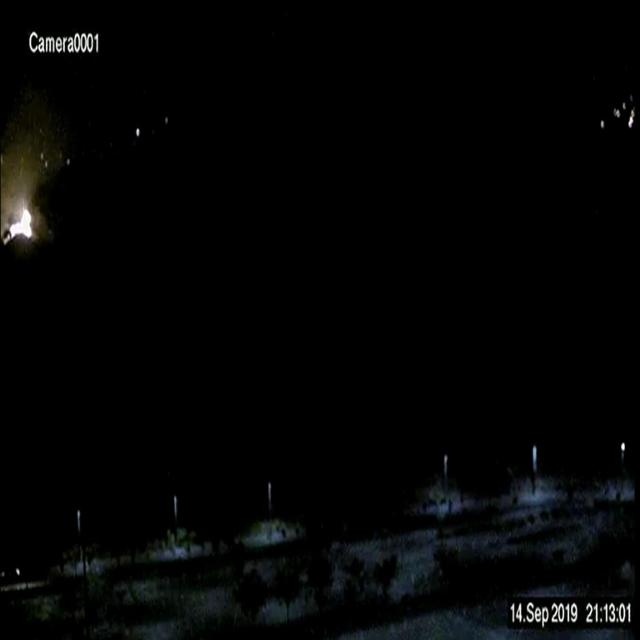Fire: (9, 212, 35, 238)
